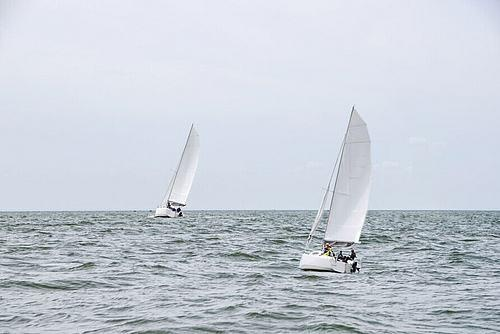fanchuan: (299, 107, 385, 272), (150, 125, 208, 223)
